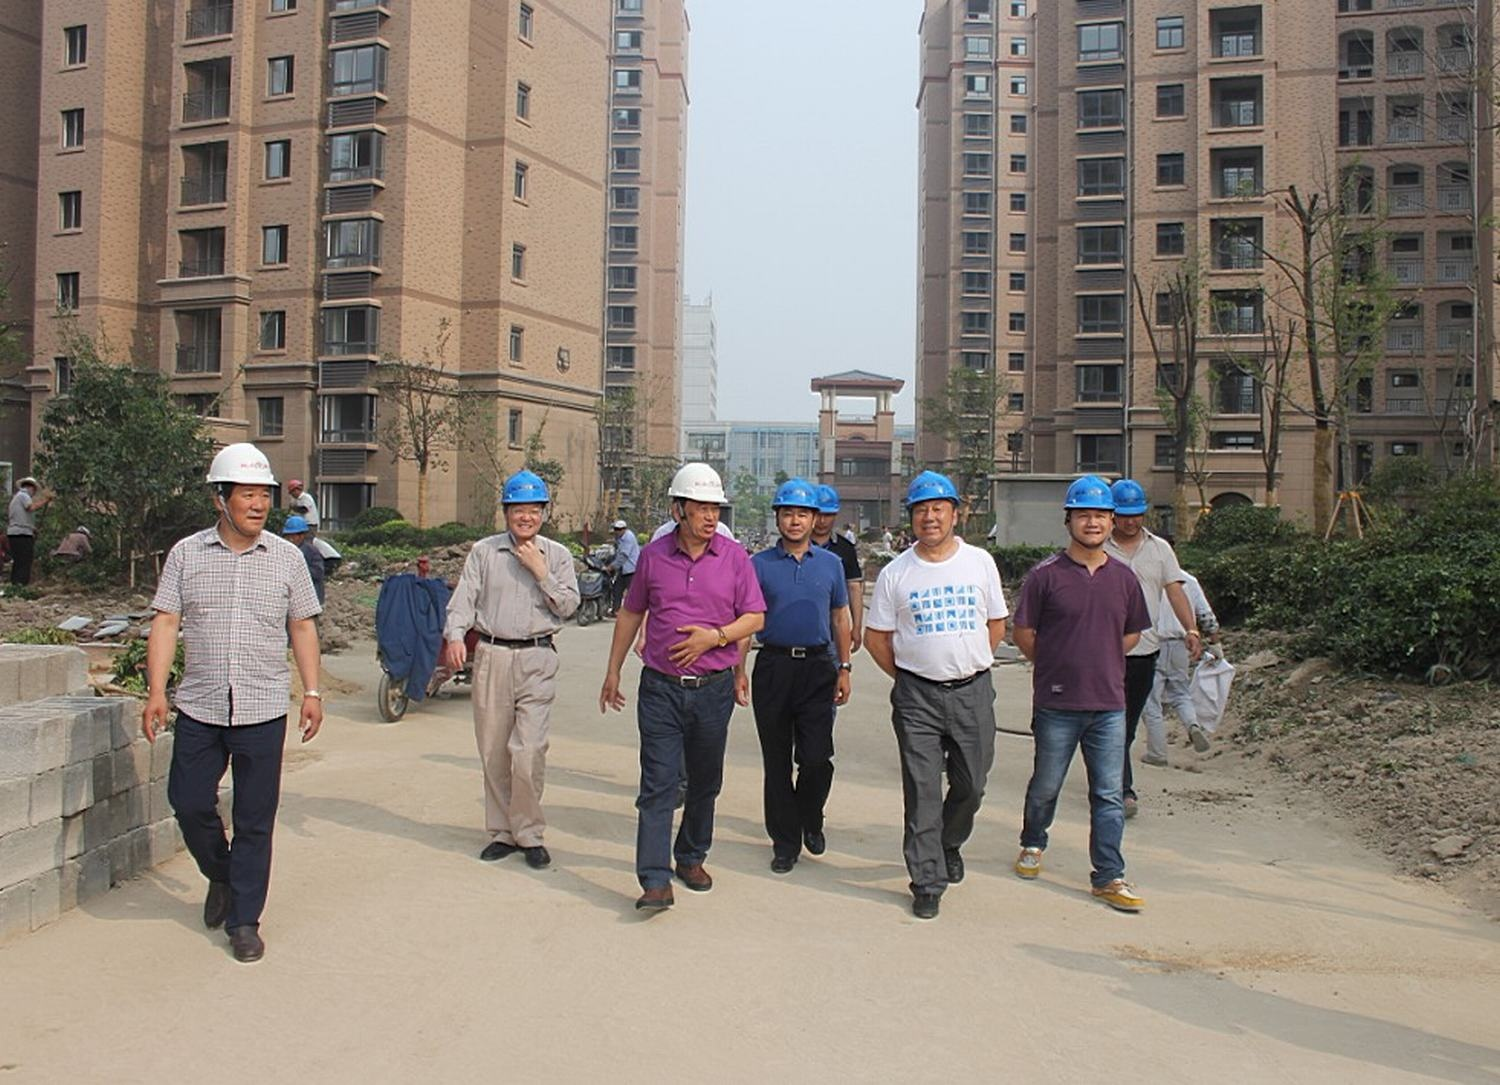blue: (906, 470, 958, 546), (1063, 474, 1113, 549), (497, 467, 550, 538), (771, 478, 819, 544), (1106, 478, 1145, 540), (808, 484, 840, 537), (282, 515, 307, 548)
red: (286, 477, 304, 499)
white: (208, 445, 273, 533), (670, 460, 726, 542), (610, 519, 627, 538)
